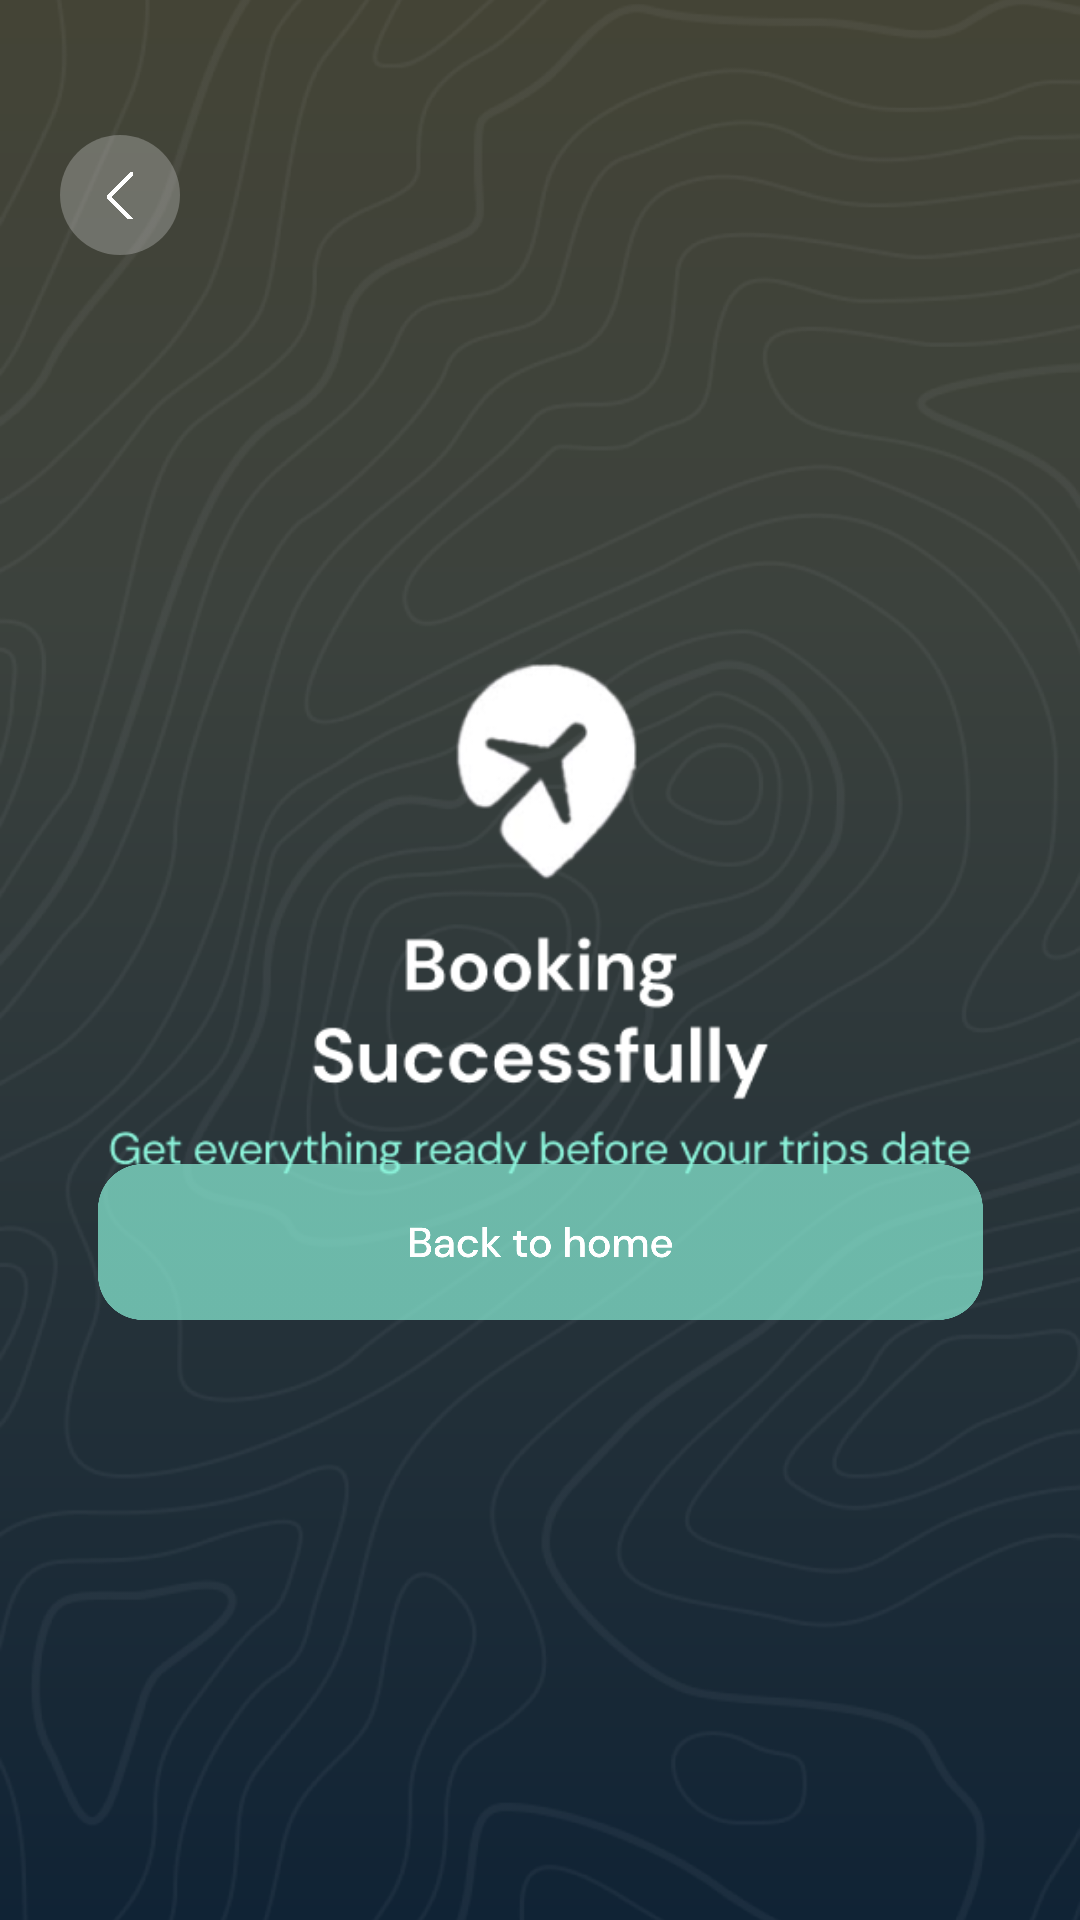

Icon click points for this 1080px x 1920px phone screenshot, format point (x, y):
arrow back: point (120, 195)
